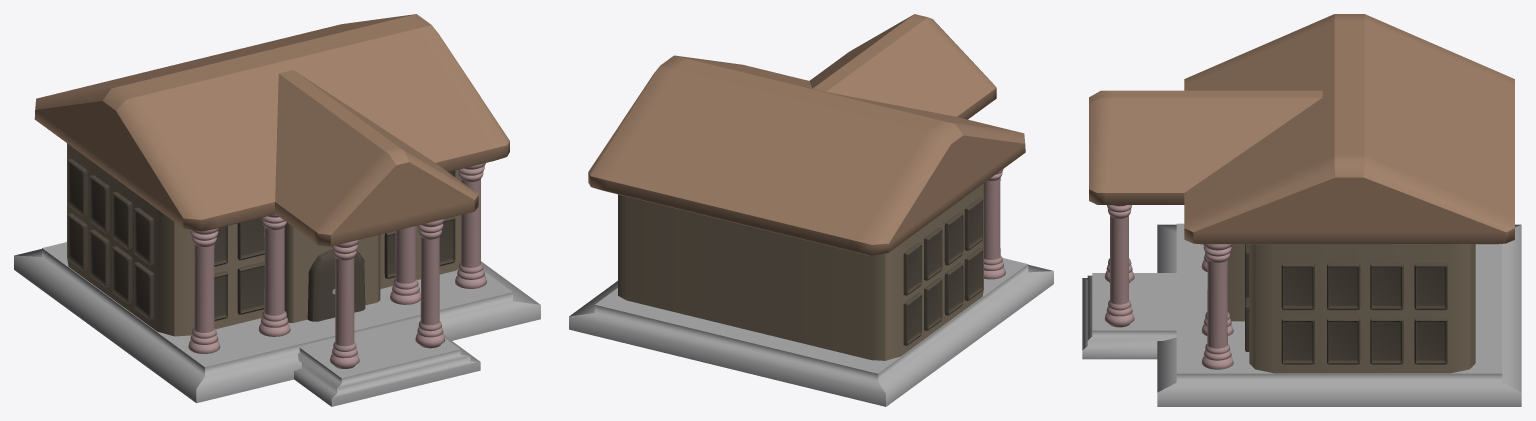
File: BankWithUV.fbx
3 renders of one model, left to right at view 1: azimuth 30°, elevation 25°; view 2: azimuth 150°, elevation 25°; view 3: azimuth 270°, elevation 25°, orthographic. The views are drawn at different scales.
Visible parts, largest first — view 1: polySurface119, polySurface134, polySurface114, polySurface127, polySurface133; view 2: polySurface119, polySurface133, polySurface134, polySurface114, polySurface127; view 3: polySurface119, polySurface134, polySurface133, polySurface114, polySurface127.
Part boxes in pixels (left/top/right/bottom): polySurface119: left=34, top=14, right=509, bottom=246; polySurface134: left=14, top=242, right=540, bottom=406; polySurface114: left=67, top=159, right=455, bottom=321; polySurface127: left=188, top=163, right=486, bottom=368; polySurface133: left=67, top=143, right=460, bottom=336; polySurface119: left=588, top=14, right=1025, bottom=255; polySurface133: left=618, top=183, right=983, bottom=360; polySurface134: left=569, top=258, right=1053, bottom=406; polySurface114: left=903, top=198, right=982, bottom=345; polySurface127: left=984, top=169, right=1005, bottom=279; polySurface119: left=1089, top=14, right=1514, bottom=244; polySurface134: left=1082, top=223, right=1521, bottom=406; polySurface133: left=1227, top=244, right=1475, bottom=373; polySurface114: left=1245, top=244, right=1447, bottom=364; polySurface127: left=1104, top=205, right=1233, bottom=369.
Size of the model in its own units: 3.66 by 2.38 by 4.05.
